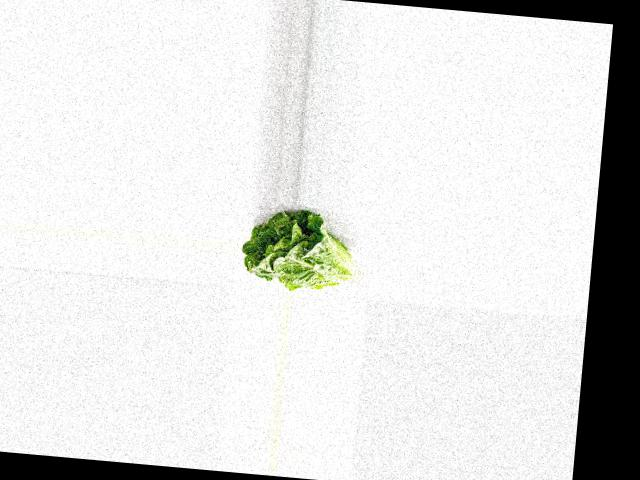lettuce: (240, 203, 363, 297)
